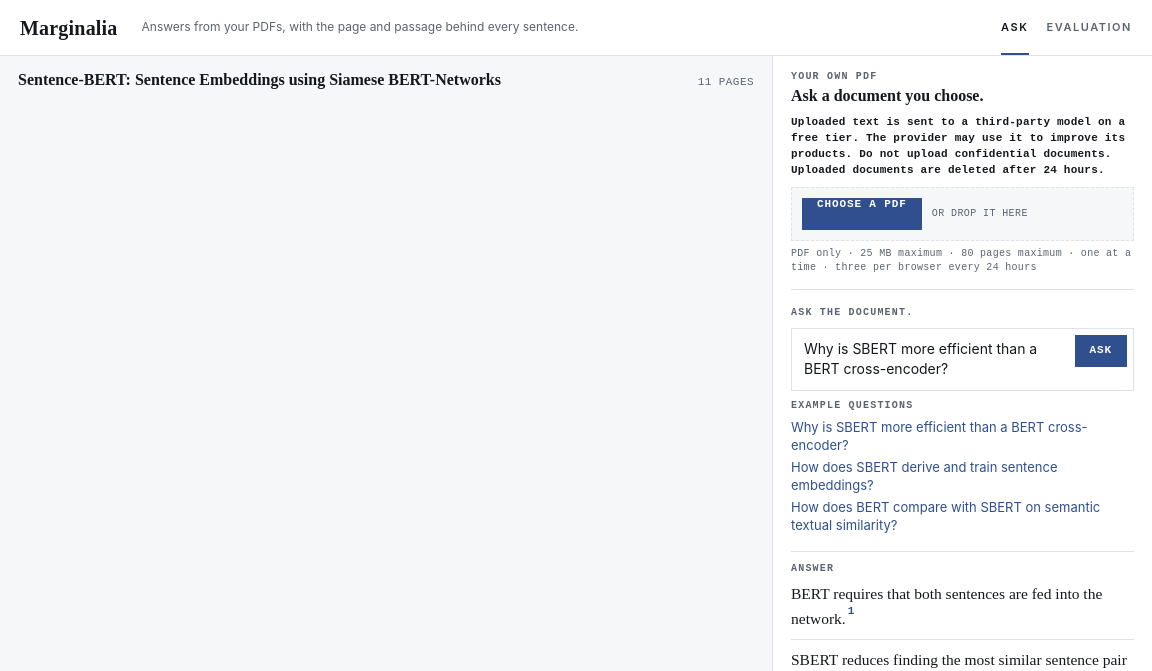
Scenario: free-instance cold start › does not retry an answer that is not a cold-start status
Replace the text in the text box named "Question" with "A question with no recorded answer?" at (933, 359), box [798,334,1068,384]
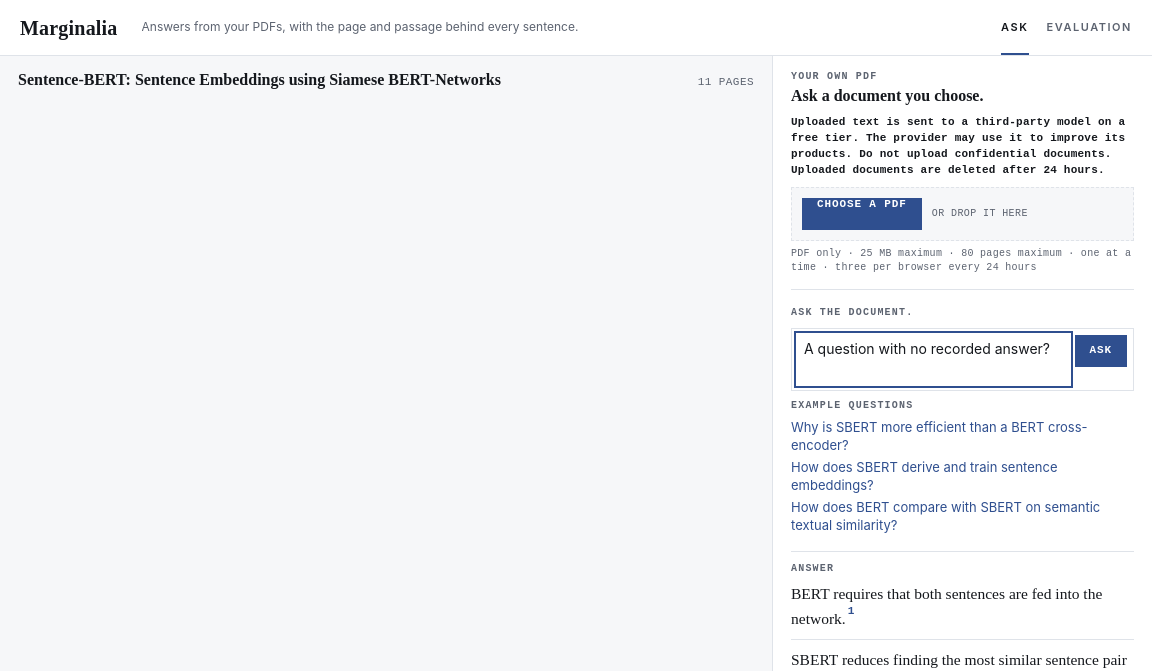
Click the button "Ask".
click(1101, 350)  # box [1074,334,1127,366]
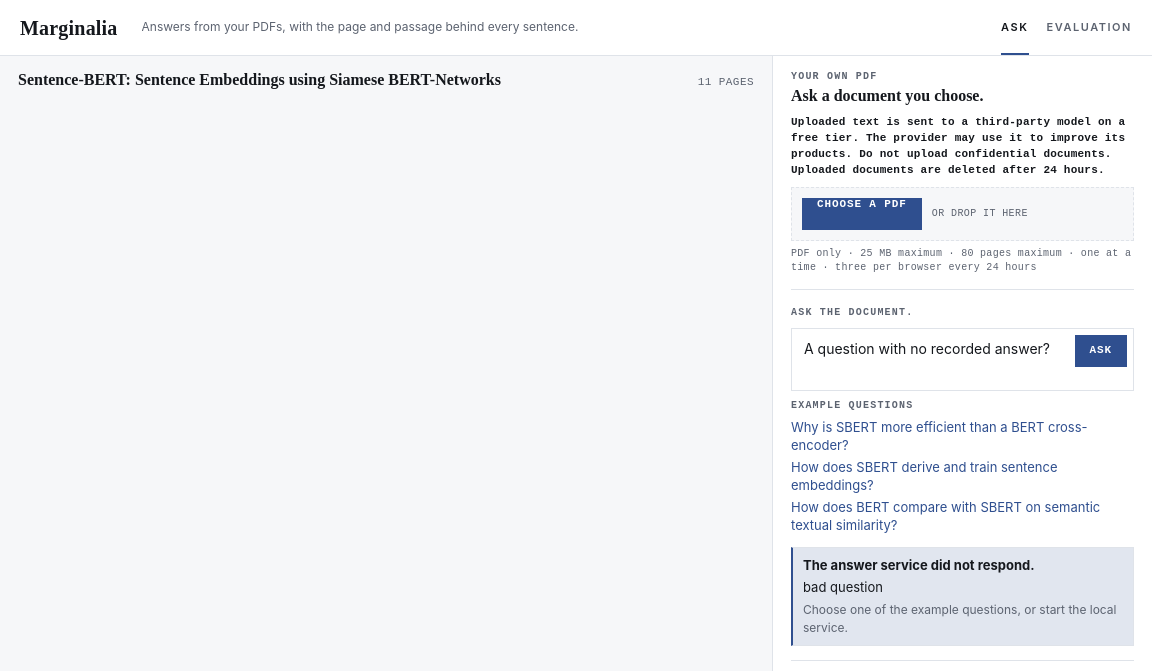
expect the message is shown: met, box [791,547,1134,646]
